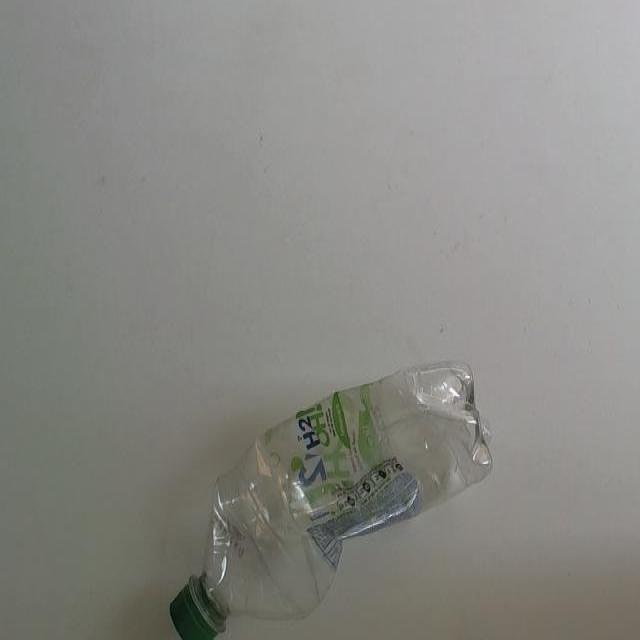defect: (167, 355, 495, 640)
